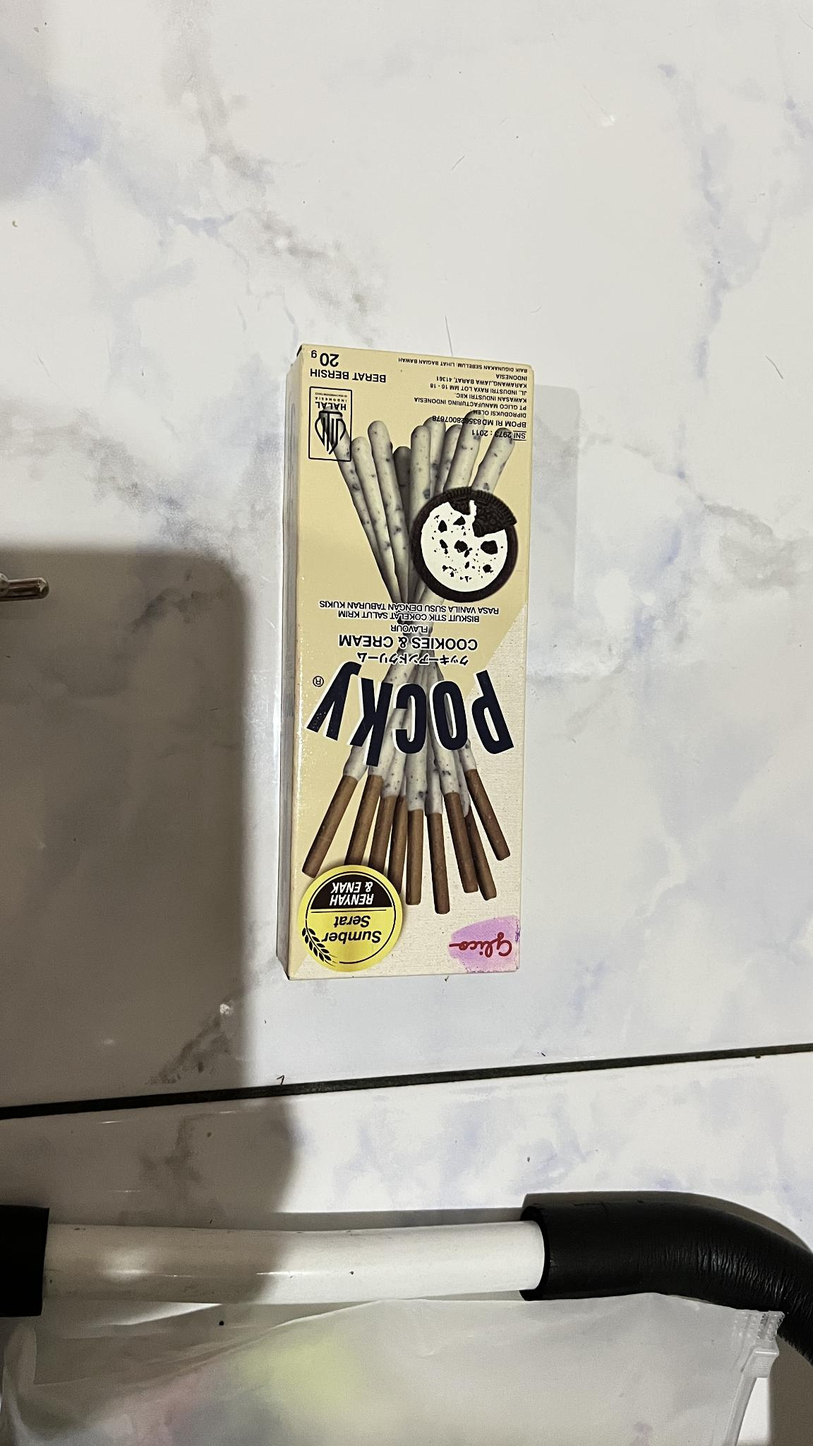Kertas: (290, 337, 538, 972)
